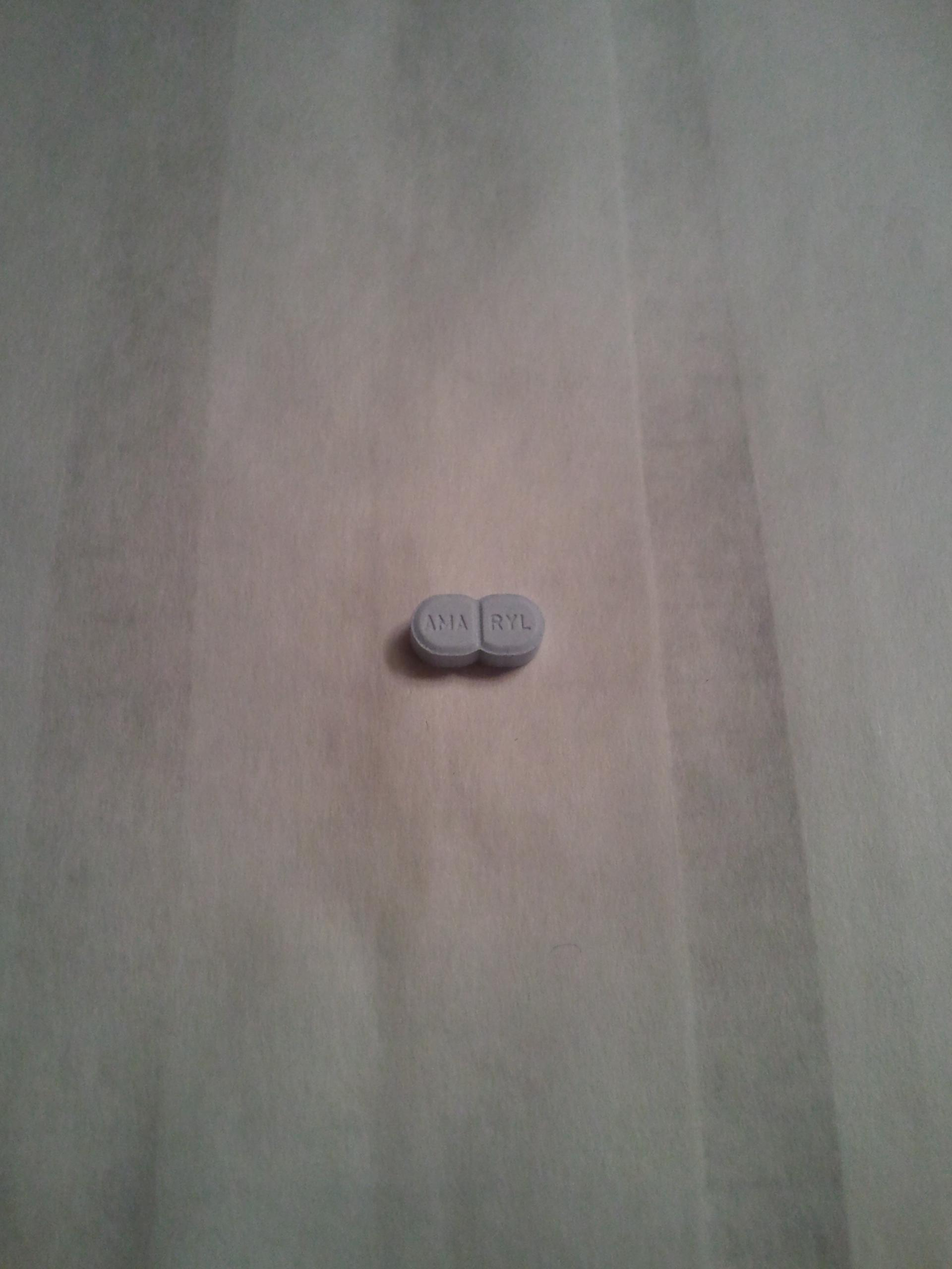Pill: (384, 575, 560, 687)
